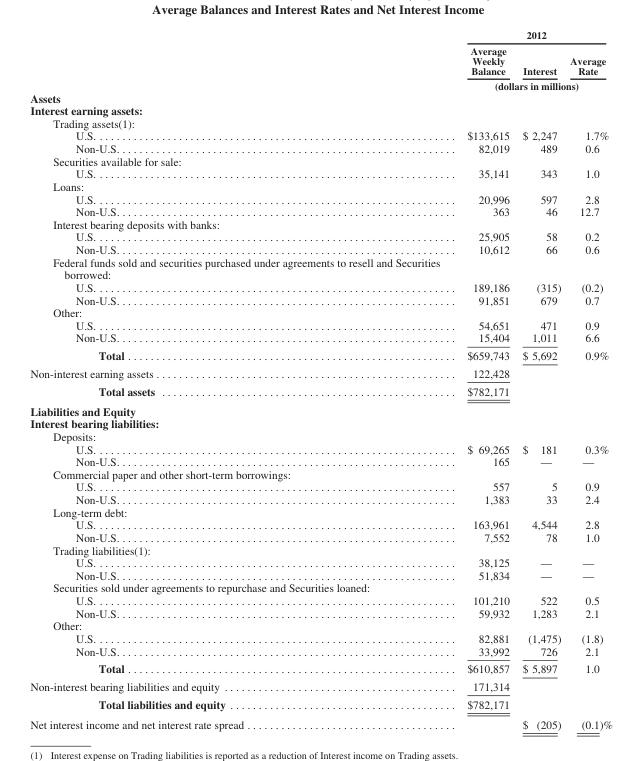table: (29, 29, 611, 730)
table column: (29, 29, 354, 730), (354, 29, 515, 730), (515, 29, 564, 730), (564, 29, 611, 730)
table column header: (29, 29, 611, 91)
table projected row header: (29, 255, 611, 280), (29, 400, 611, 416), (29, 103, 611, 116), (29, 116, 611, 129), (29, 154, 611, 167), (29, 179, 611, 192), (29, 217, 611, 230), (29, 416, 611, 429), (29, 429, 611, 442), (29, 467, 611, 480), (29, 505, 611, 518), (29, 543, 611, 556), (29, 91, 611, 103), (29, 306, 611, 318), (29, 581, 611, 593), (29, 619, 611, 631)
table row: (29, 42, 611, 77), (29, 255, 611, 280), (29, 381, 611, 400), (29, 694, 611, 713), (29, 346, 611, 364), (29, 659, 611, 677), (29, 364, 611, 381), (29, 677, 611, 694), (29, 713, 611, 730), (29, 400, 611, 416), (29, 331, 611, 346), (29, 644, 611, 659), (29, 77, 611, 91), (29, 29, 611, 42), (29, 103, 611, 116), (29, 116, 611, 129), (29, 141, 611, 154), (29, 154, 611, 167), (29, 179, 611, 192), (29, 192, 611, 205), (29, 217, 611, 230), (29, 242, 611, 255), (29, 280, 611, 293), (29, 293, 611, 306), (29, 318, 611, 331), (29, 416, 611, 429), (29, 429, 611, 442), (29, 442, 611, 455), (29, 467, 611, 480), (29, 492, 611, 505), (29, 505, 611, 518), (29, 530, 611, 543), (29, 543, 611, 556), (29, 568, 611, 581), (29, 593, 611, 606), (29, 606, 611, 619), (29, 631, 611, 644), (29, 91, 611, 103), (29, 129, 611, 141), (29, 167, 611, 179), (29, 205, 611, 217), (29, 230, 611, 242), (29, 306, 611, 318), (29, 455, 611, 467), (29, 480, 611, 492), (29, 518, 611, 530), (29, 556, 611, 568), (29, 581, 611, 593), (29, 619, 611, 631)
table spanning cell: (354, 77, 611, 91), (354, 29, 611, 42)
